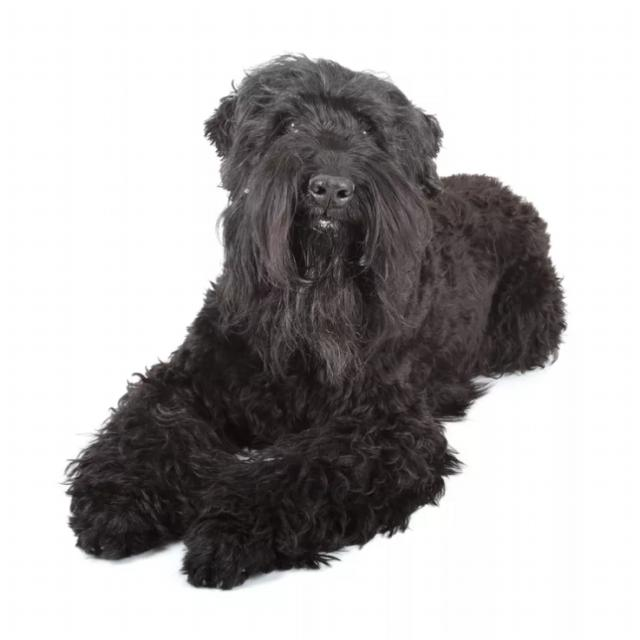dogs: (66, 58, 566, 591)
